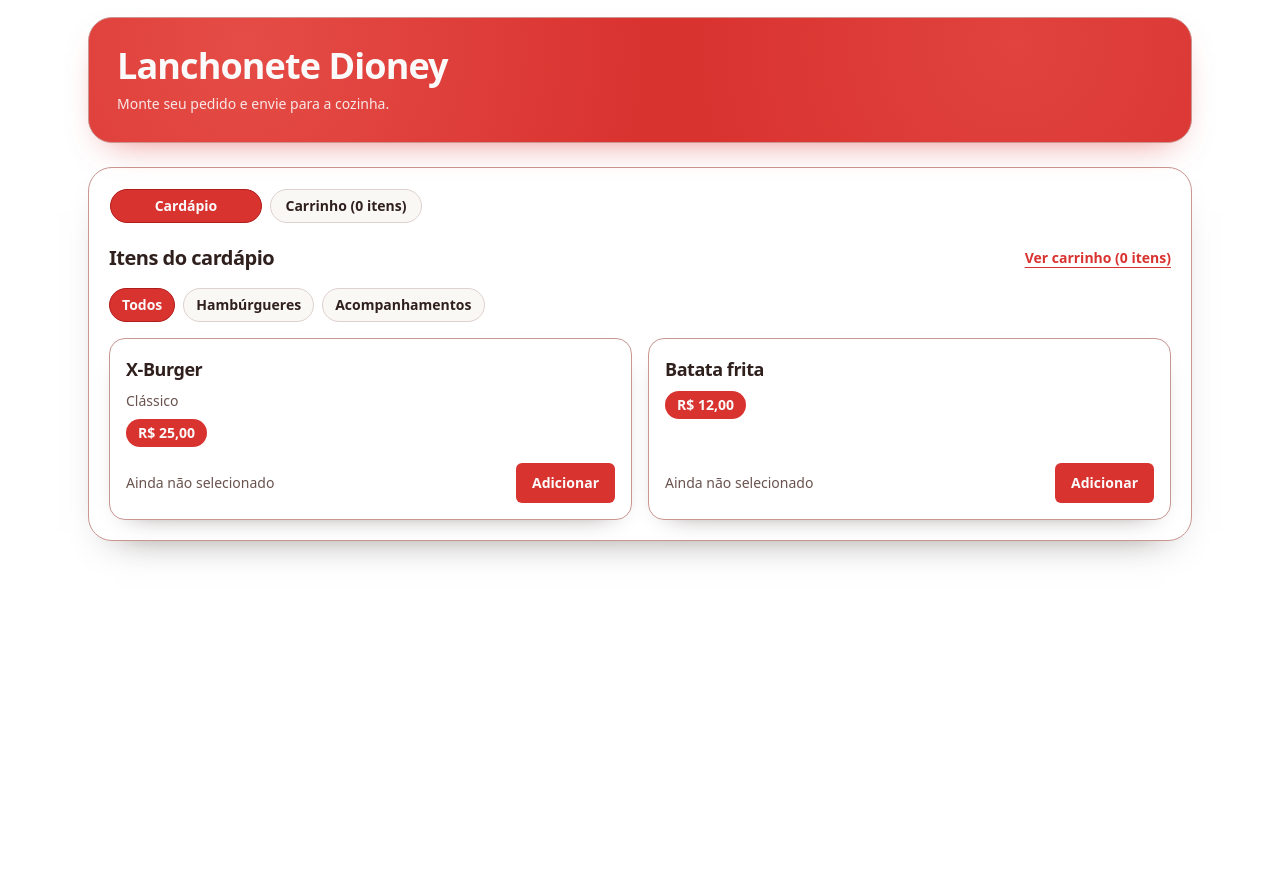
Test: CustomerOrderPage (Customer Order Submission) › blocks submit with zero selected items and shows a validation message (brief: no items selected)
The width and height of the screenshot is (1280, 885).
Click the tab "Carrinho (0 itens)".
click(346, 206)  # box 270,189 -> 422,223
(page scrolled)
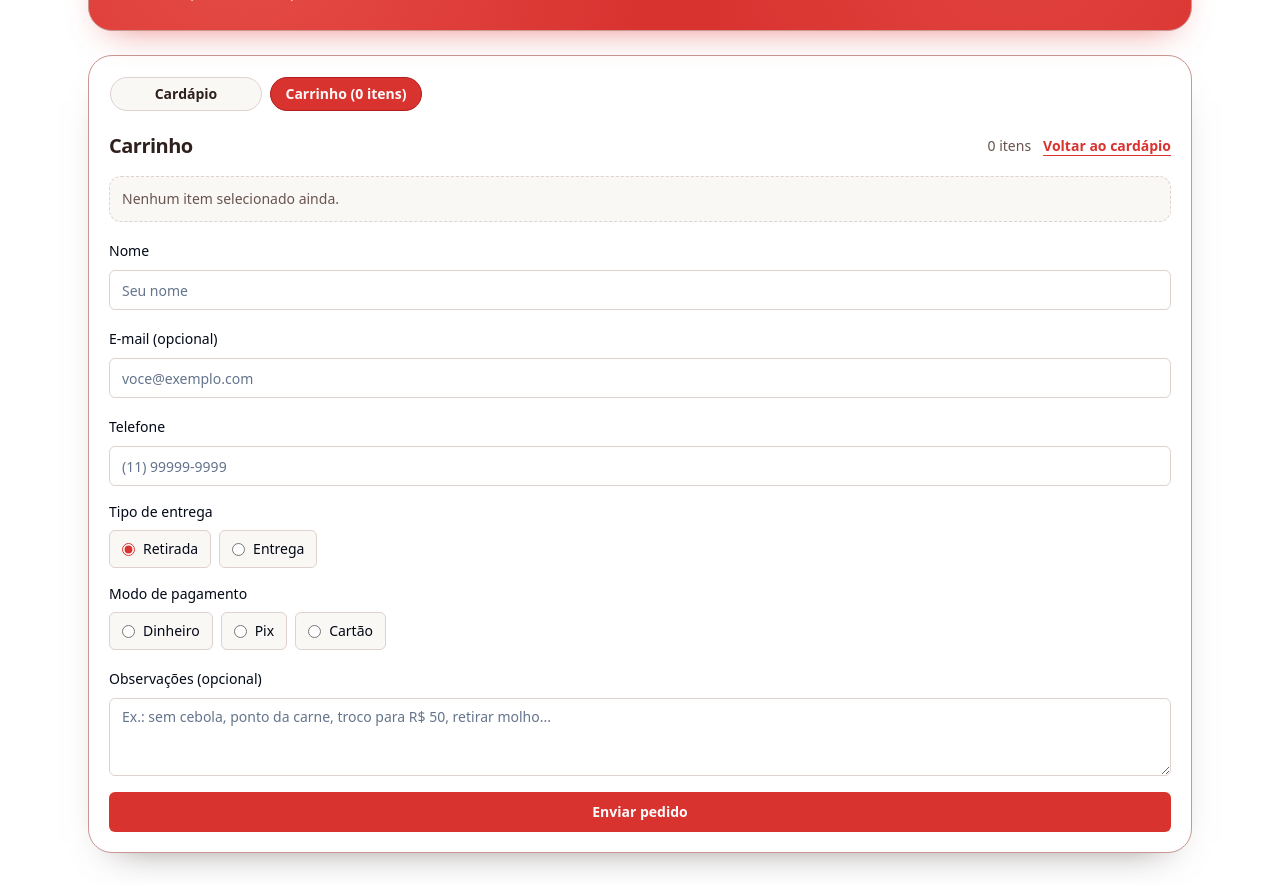
Click the button "Enviar pedido".
click(640, 812)  # box 109,792 -> 1171,832
(page scrolled)
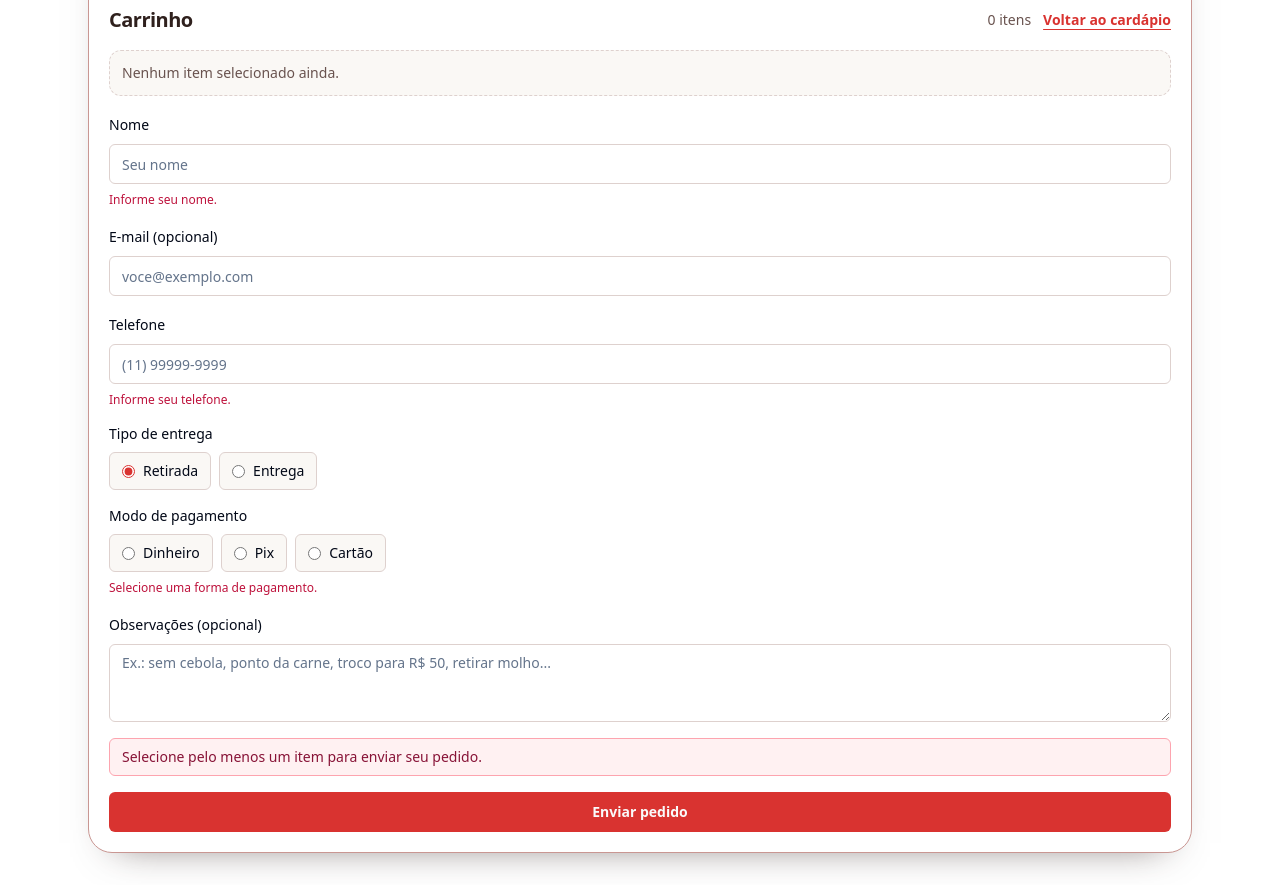
Expected: the text "Selecione pelo menos um item para enviar seu pedido." is shown, 109,738 -> 1171,776
